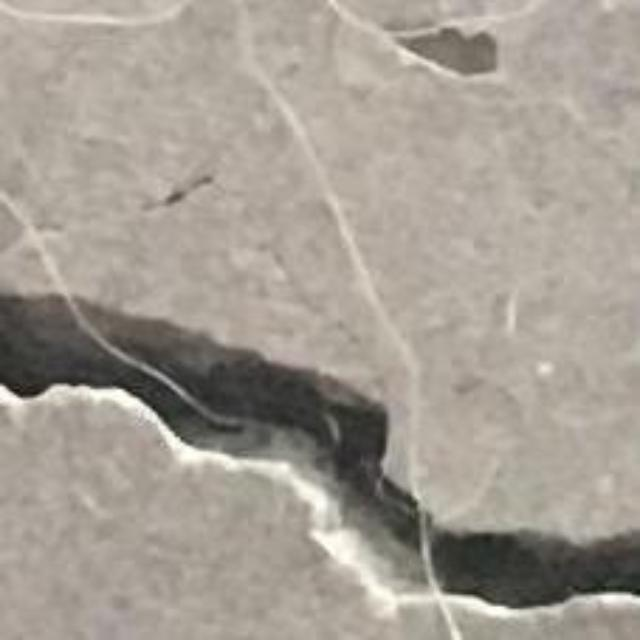crack: (0, 285, 639, 608)
